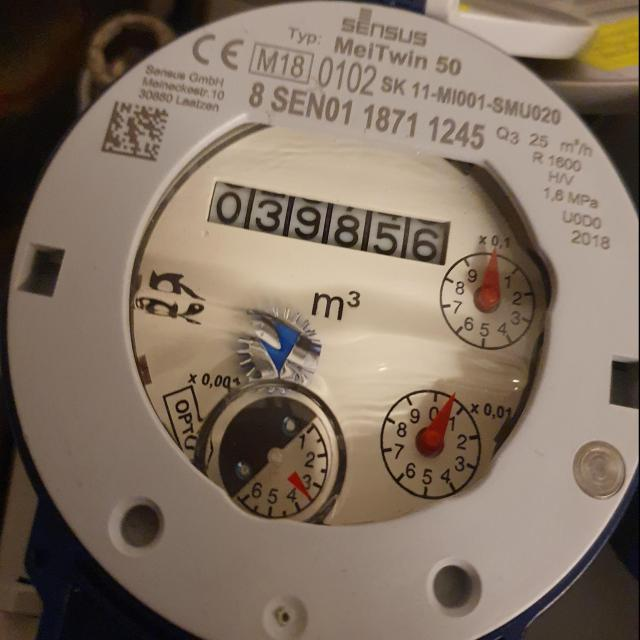gaz_meter: (122, 92, 553, 526)
indication: (205, 177, 449, 266)
